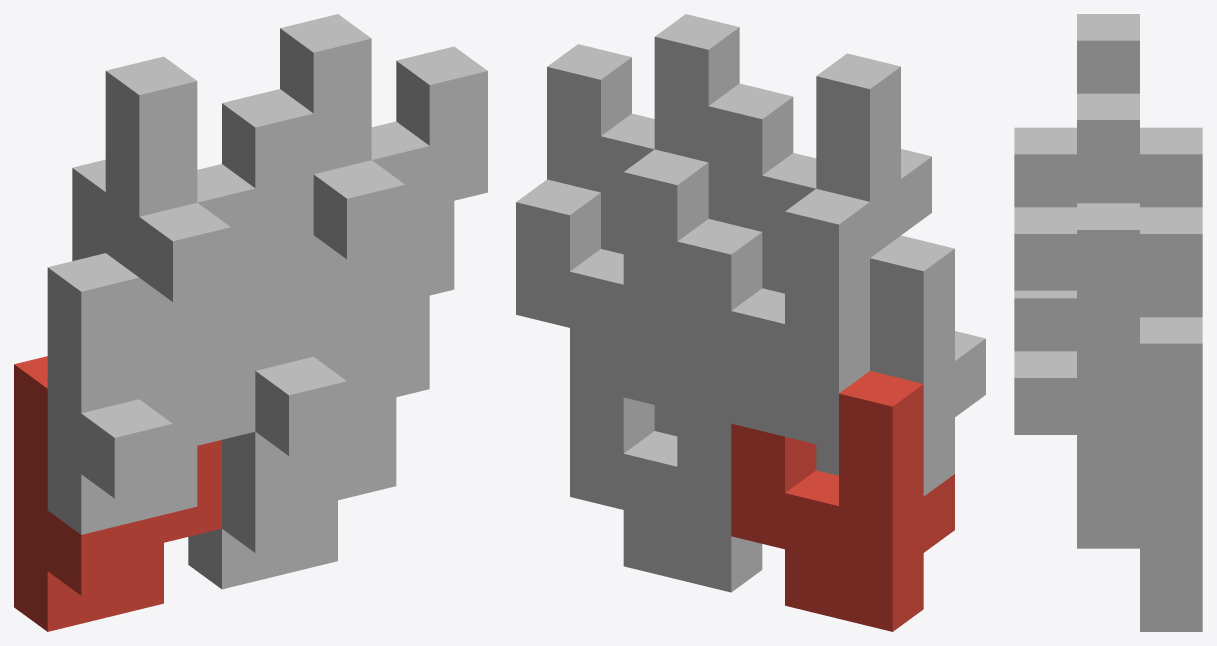
The model's file is tiling.obj.
3 renders of one model, left to right at view 1: azimuth 30°, elevation 25°; view 2: azimuth 150°, elevation 25°; view 3: azimuth 270°, elevation 25°, orthographic. The views are drawn at different scales.
Visible parts, largest first — view 1: copy_1_domain_4, copy_1_domain_2, copy_1_domain_8, copy_1_domain_6, copy_1_domain_1, copy_1_domain_5, copy_1_domain_3, copy_1_domain_7; view 2: copy_1_domain_1, copy_1_domain_3, copy_1_domain_7, copy_1_domain_4, copy_1_domain_5, copy_1_domain_8, copy_1_domain_2; view 3: copy_1_domain_8, copy_1_domain_7, copy_1_domain_6, copy_1_domain_5, copy_1_domain_4, copy_1_domain_3, copy_1_domain_2.
Boxes of the visible parts, x1,y1,x2,y2 form: copy_1_domain_4: (105, 56, 313, 338); copy_1_domain_2: (47, 253, 255, 534); copy_1_domain_8: (280, 14, 487, 295); copy_1_domain_6: (222, 235, 429, 492); copy_1_domain_1: (14, 356, 221, 631); copy_1_domain_5: (188, 397, 396, 589); copy_1_domain_3: (72, 159, 197, 398); copy_1_domain_7: (313, 201, 454, 356); copy_1_domain_1: (731, 371, 954, 631); copy_1_domain_3: (677, 189, 869, 449); copy_1_domain_7: (516, 149, 708, 410); copy_1_domain_4: (708, 53, 931, 293); copy_1_domain_5: (570, 354, 762, 592); copy_1_domain_8: (547, 14, 739, 254); copy_1_domain_2: (816, 235, 985, 496); copy_1_domain_8: (1014, 93, 1139, 373); copy_1_domain_7: (1140, 207, 1202, 487); copy_1_domain_6: (1014, 351, 1139, 518); copy_1_domain_5: (1077, 488, 1202, 631); copy_1_domain_4: (1014, 14, 1139, 207); copy_1_domain_3: (1140, 127, 1202, 207); copy_1_domain_2: (1014, 290, 1076, 351).
Bounding box in the file's own units: 7 × 9 × 3.
